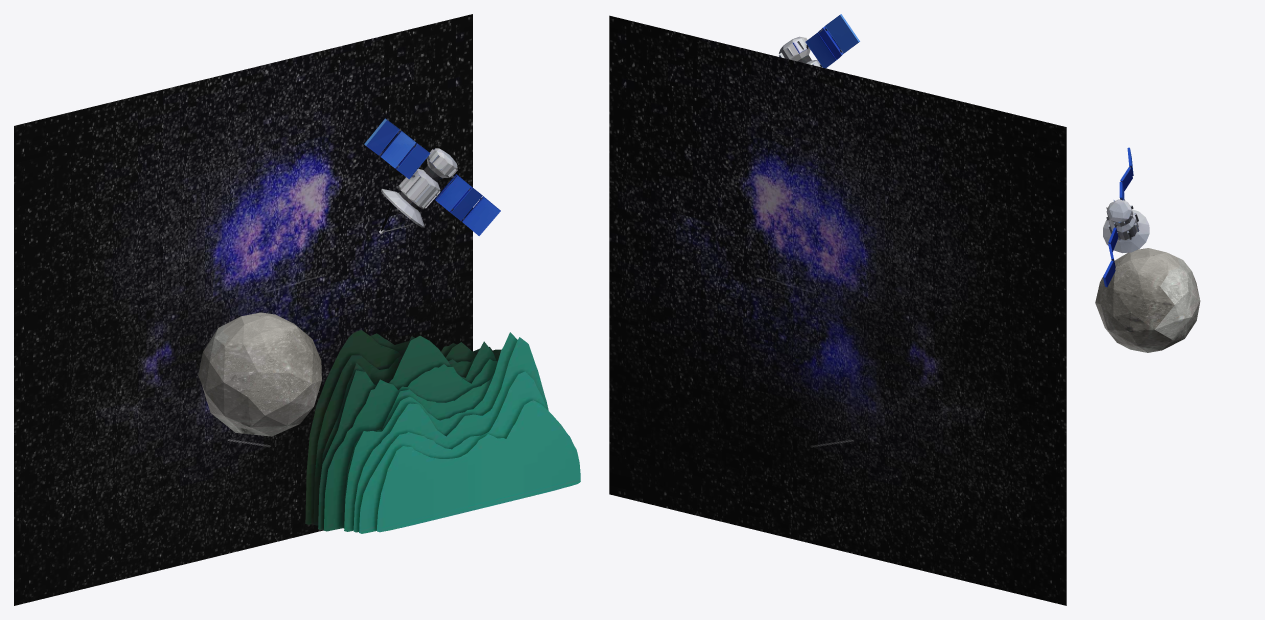
File: geo-packed.glb
3 renders of one model, left to right at view 1: azimuth 30°, elevation 25°; view 2: azimuth 150°, elevation 25°; view 3: azimuth 270°, elevation 25°, orthographic. The views are drawn at different scales.
Parts seen in each view (by area): view 1: Plane.005, Mountains.001, Moon, Plane.004, SATELLITE.001; view 2: Plane.005, Plane.004, SATELLITE.001; view 3: Moon, SATELLITE.001, Plane.004.
Boxes of the visible parts, x1=… form: Plane.005: x1=14, y1=14, x2=472, y2=605; Mountains.001: x1=305, y1=330, x2=580, y2=533; Moon: x1=198, y1=312, x2=321, y2=436; Plane.004: x1=364, y1=118, x2=500, y2=235; SATELLITE.001: x1=381, y1=148, x2=457, y2=227; Plane.005: x1=609, y1=15, x2=1066, y2=605; Plane.004: x1=805, y1=14, x2=859, y2=68; SATELLITE.001: x1=779, y1=36, x2=827, y2=68; Moon: x1=1095, y1=248, x2=1200, y2=352; SATELLITE.001: x1=1103, y1=199, x2=1149, y2=253; Plane.004: x1=1103, y1=147, x2=1133, y2=287.
Bounding box in the file's own units: 3.53 × 3.29 × 1.15.
2 materials, 2 textured.
